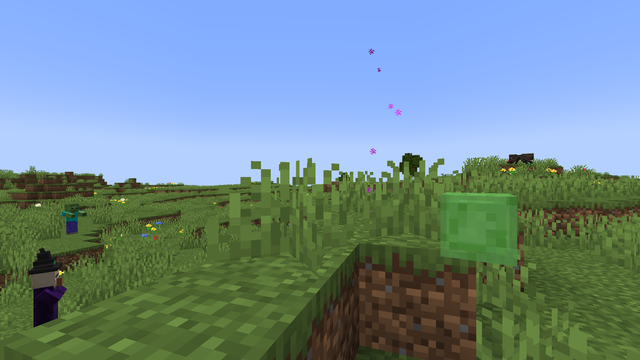araignees: (506, 152, 532, 164)
slimes: (439, 190, 525, 266)
sorcieres: (26, 263, 63, 322)
zombies: (63, 204, 79, 234)
